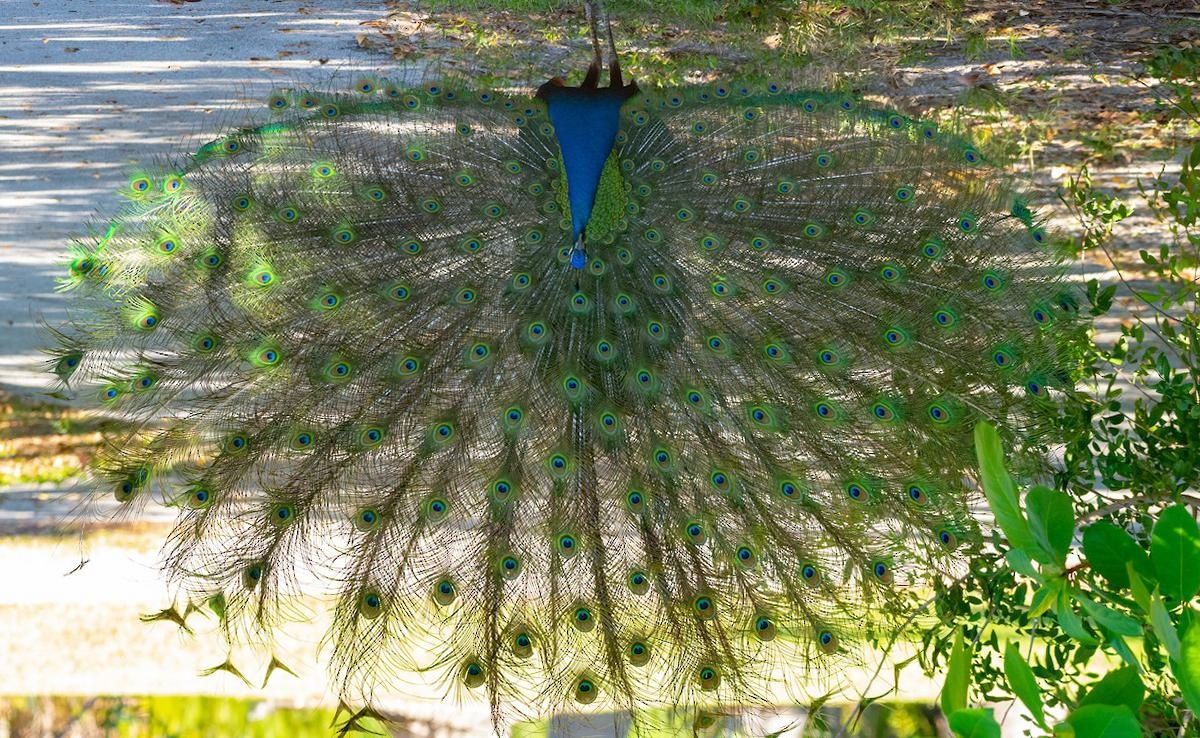peacock: (155, 40, 997, 617)
